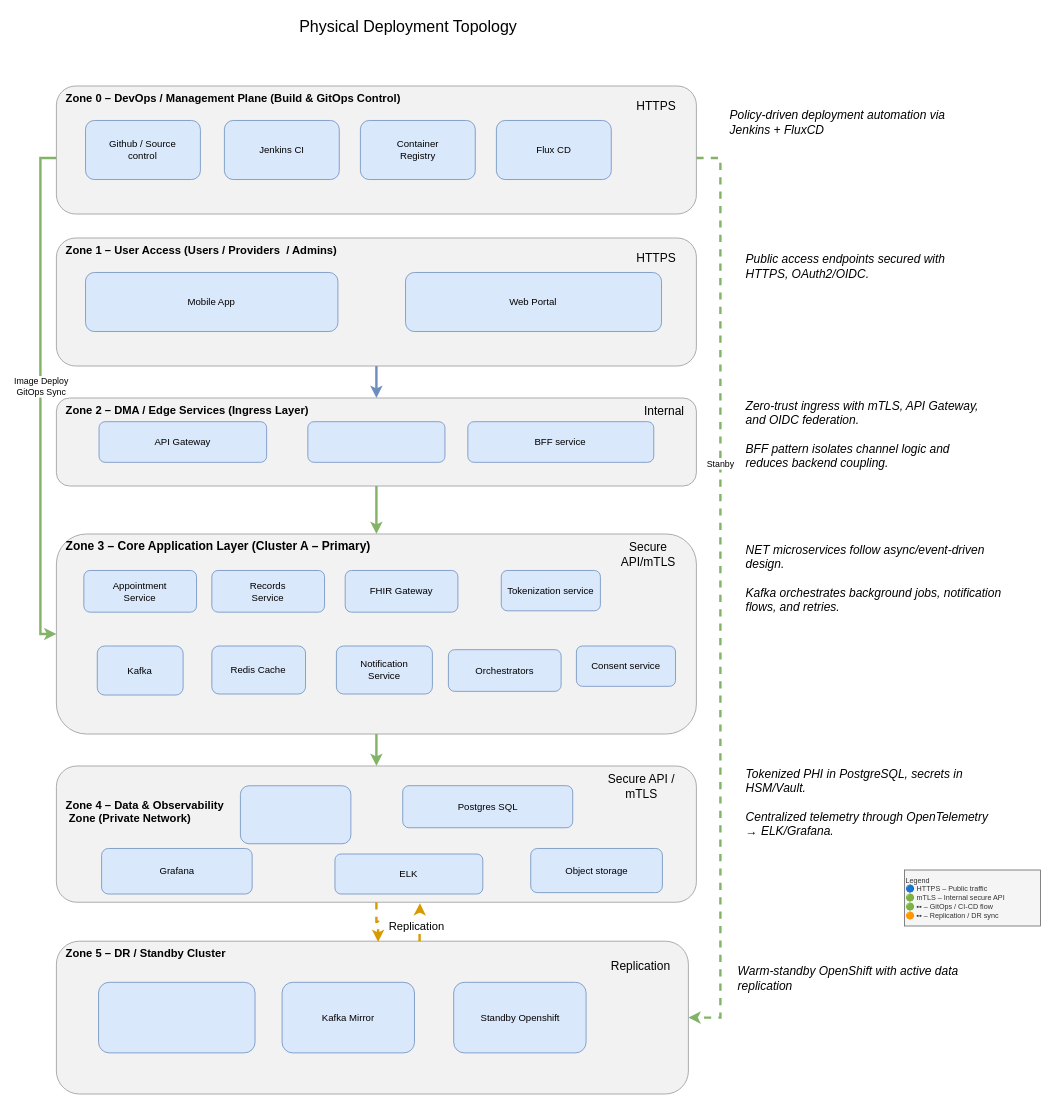
Some shapes in this 1054 by 1108 pixel diagram are drawn without their labels. The shapes that lost their labels are listed below. From the top down, each one's centre as x and y in pixels, then its label:
(376,441): OIDC Proxy
(295,814): HSM
(176,1017): Replica workloads
